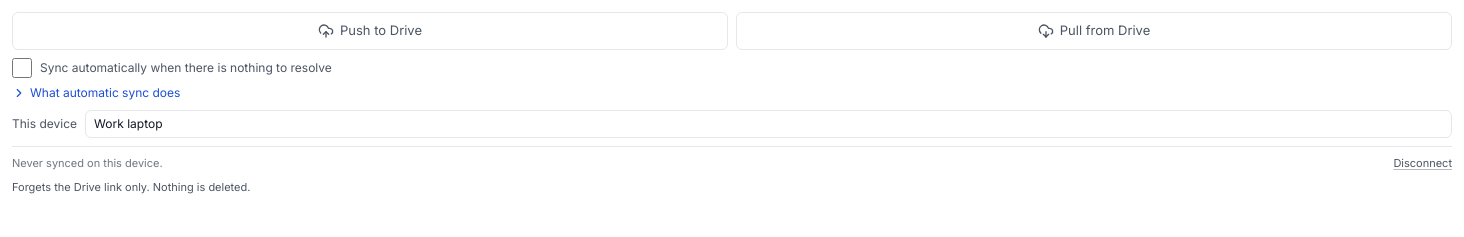
Test: DriveSyncControls › reports when there is nothing to push
Click the button "Push to Drive": click(370, 31) [12,12,728,50]
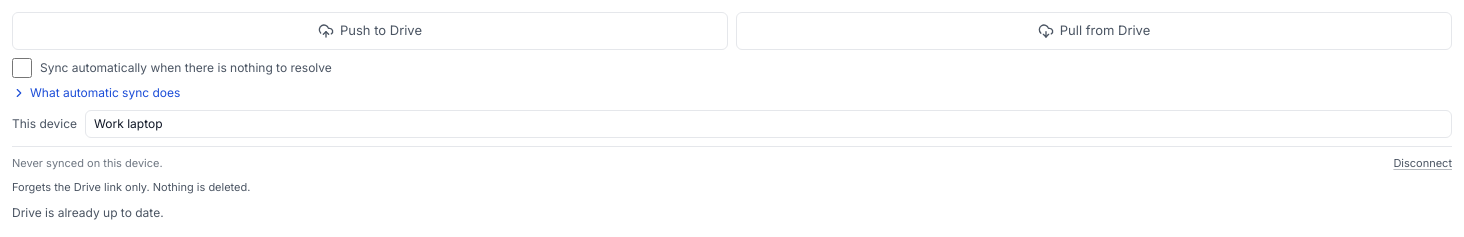
Result: the text "Drive is already up to date." is shown at [12,204,164,220]
